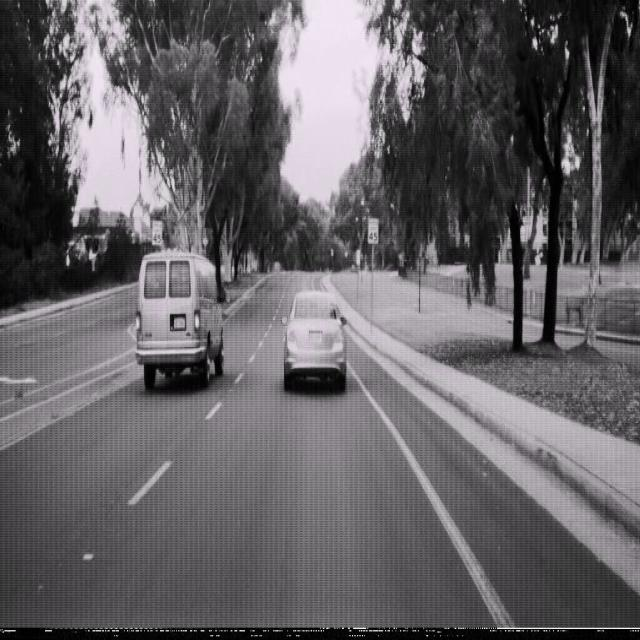speedLimit45: (367, 216, 379, 245)
